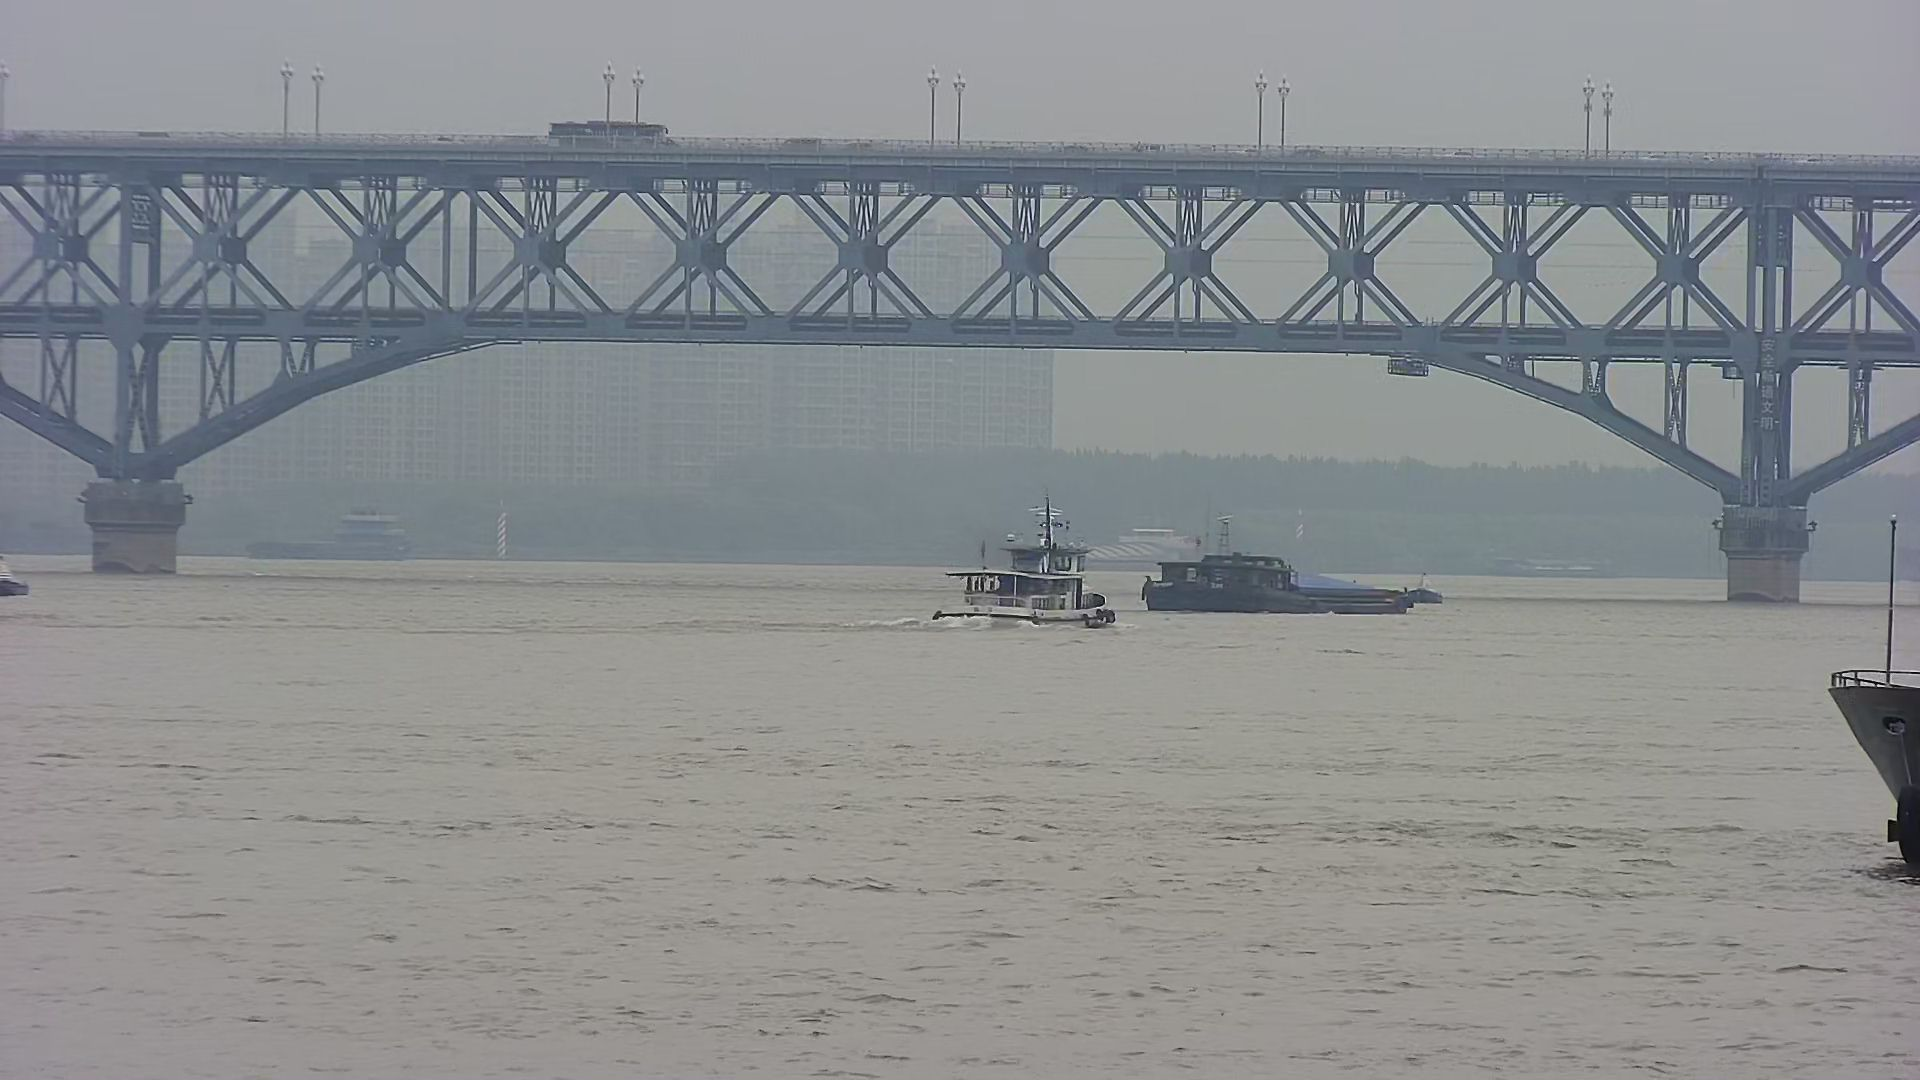boat: (1398, 566, 1461, 612)
bridge: (1, 120, 1915, 607)
ship: (911, 472, 1133, 641), (1129, 516, 1418, 616)
